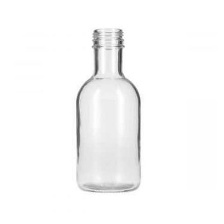bottle: (71, 24, 148, 194)
